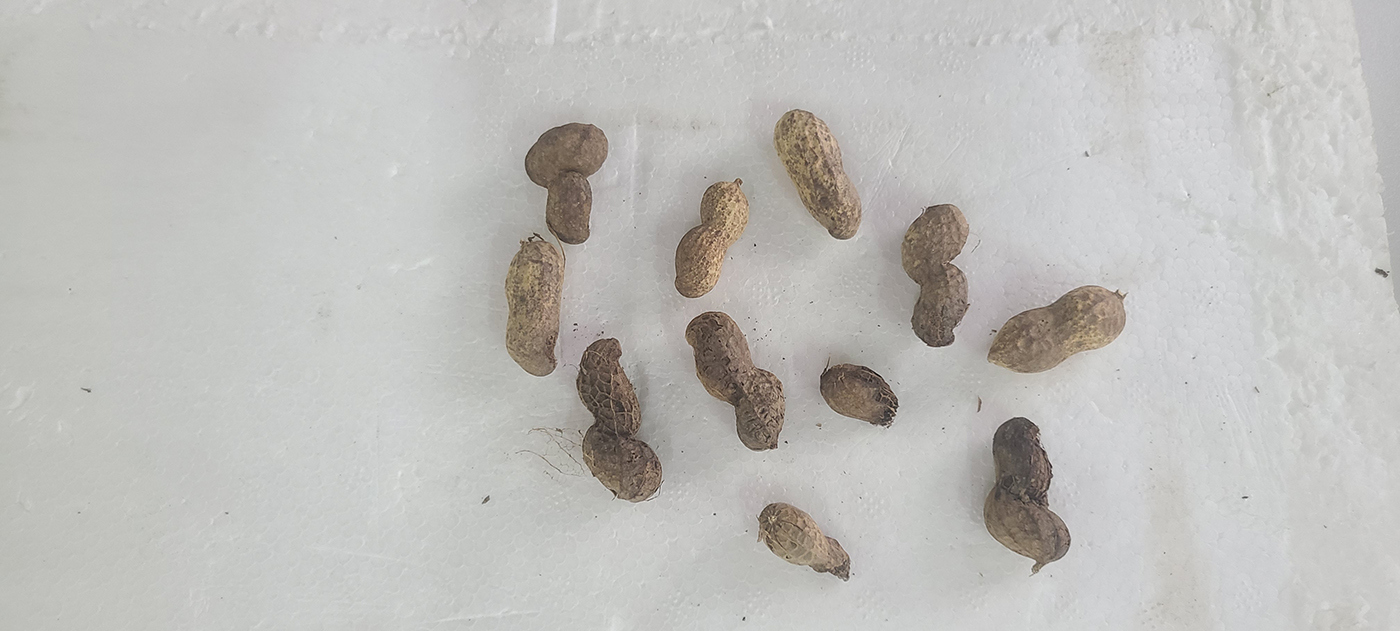l: (575, 337, 662, 503), (685, 309, 785, 452), (923, 421, 1010, 567), (986, 285, 1126, 373), (774, 110, 861, 240), (900, 202, 972, 348), (673, 182, 749, 296), (504, 241, 566, 377), (758, 502, 851, 580), (525, 123, 610, 186), (820, 364, 898, 426), (546, 172, 592, 244)
